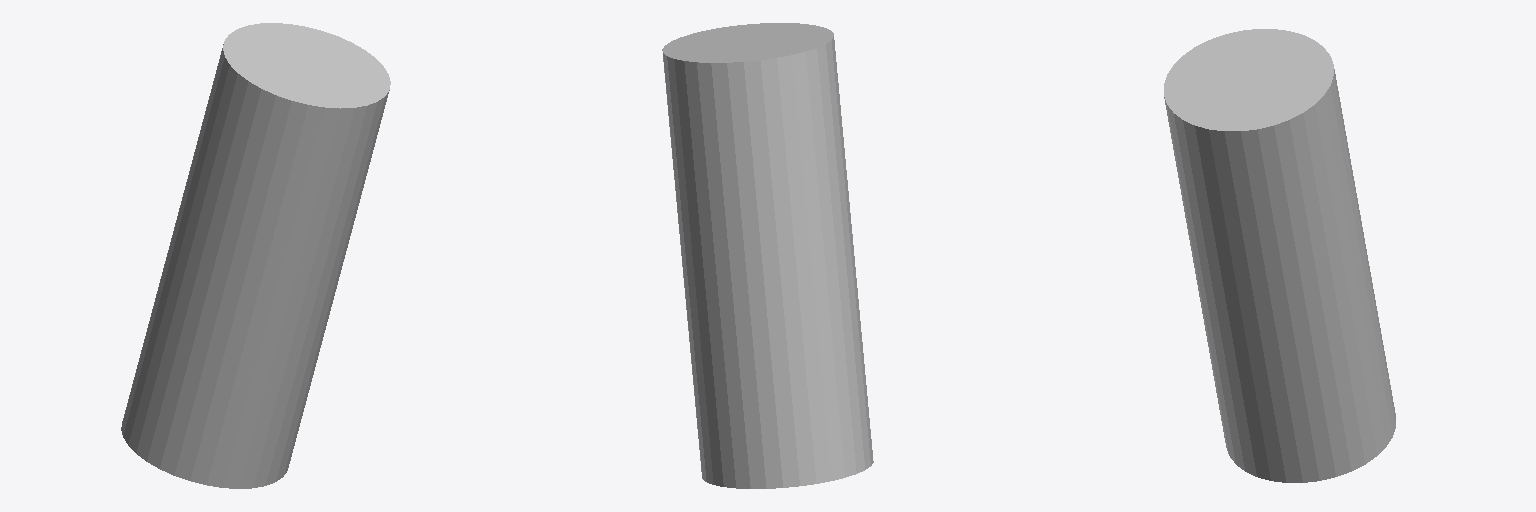
File: score_item_1.obj
The picture shows the model from 3 angles: view 1: azimuth 30°, elevation 25°; view 2: azimuth 150°, elevation 25°; view 3: azimuth 270°, elevation 25°; orthographic projection.
Size of the model in its own units: 0.0964 by 0.1793 by 0.0894.